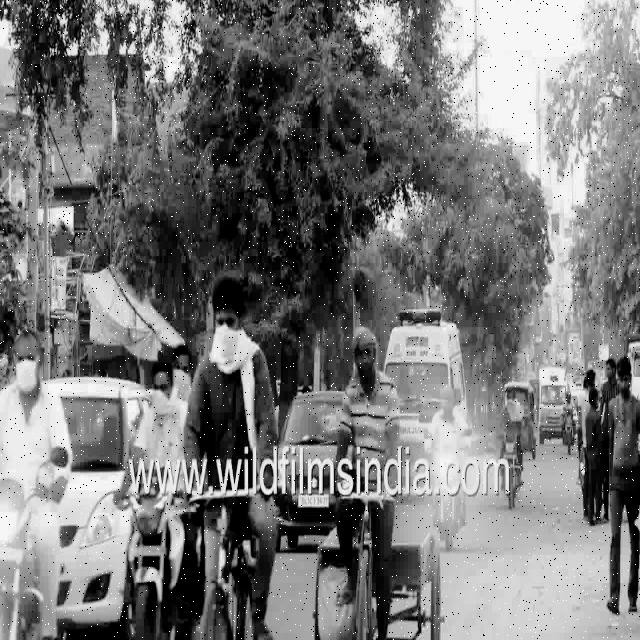Ambulance: (385, 305, 450, 444)
